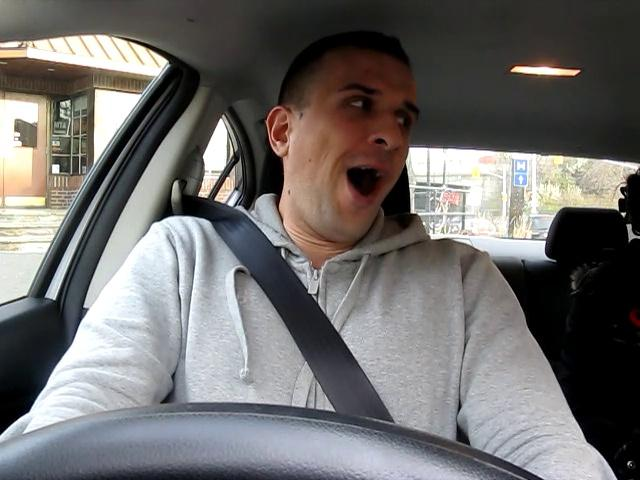open_eyeL: (333, 87, 387, 118)
open_eyeR: (389, 99, 429, 139)
yawn: (324, 156, 400, 207)
